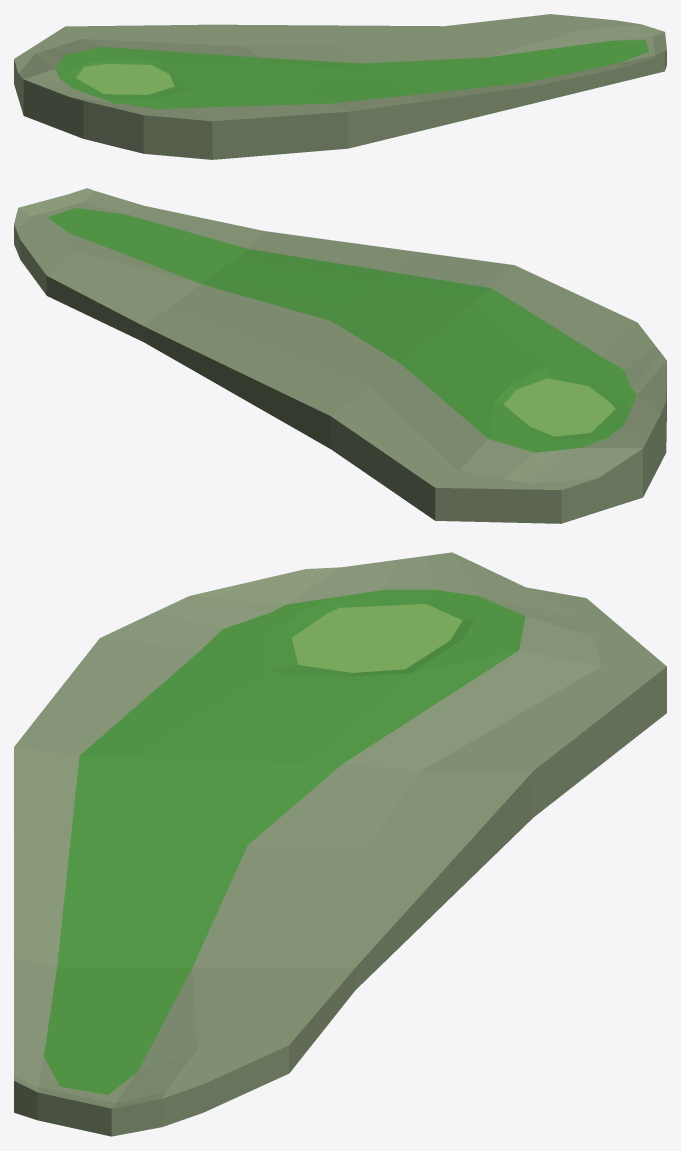
Rendered from Golf_course_01.fbx.
The picture shows the model from 3 angles, top to bottom: view 1: azimuth 30°, elevation 25°; view 2: azimuth 150°, elevation 25°; view 3: azimuth 270°, elevation 25°; orthographic projection. The views are drawn at different scales.
Visible parts, largest first — view 1: Course_01; view 2: Course_01; view 3: Course_01.
Boxes of the visible parts, <box> form: Course_01: <box>14,14,666,159</box>; Course_01: <box>14,188,666,523</box>; Course_01: <box>14,552,666,1136</box>.
Size of the model in its own units: 48779 by 3260 by 26159.
